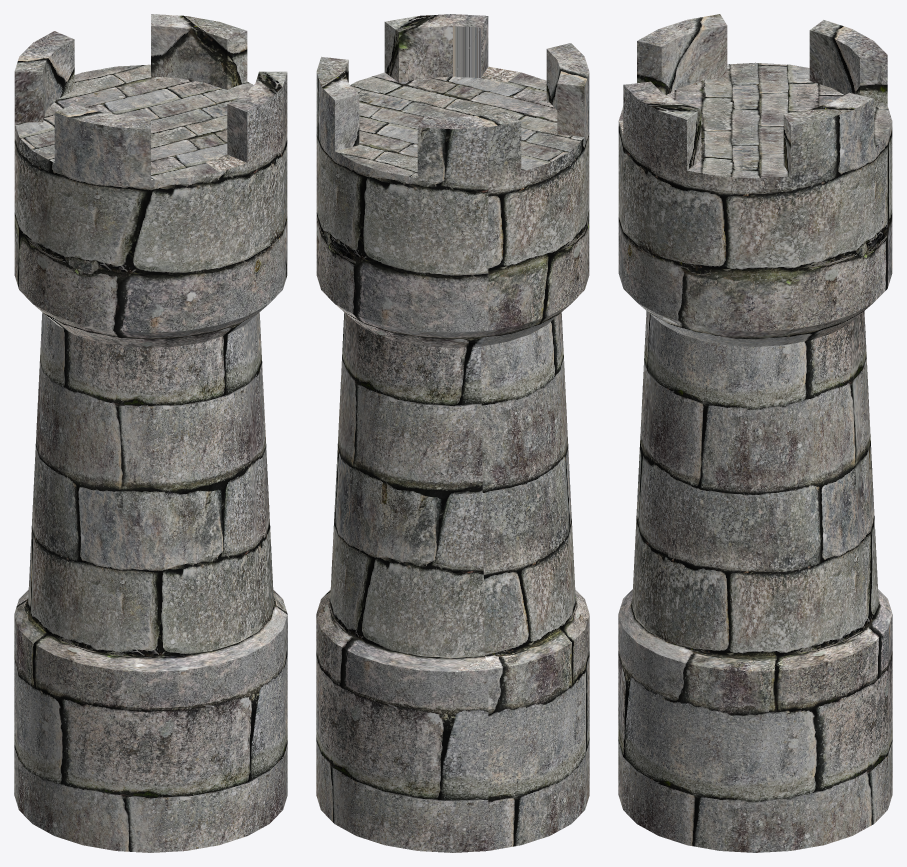
File: tower_model.glb
The picture shows the model from 3 angles, left to right: view 1: azimuth 30°, elevation 25°; view 2: azimuth 150°, elevation 25°; view 3: azimuth 270°, elevation 25°; orthographic projection.
Visible parts, largest first — view 1: Cylinder; view 2: Cylinder; view 3: Cylinder.
Boxes of the visible parts, x1,y1,x2,y2 form: Cylinder: (14,14,287,852); Cylinder: (316,14,589,852); Cylinder: (618,14,892,852).
Size of the model in its own units: 1.37 by 4 by 1.37.
Materials: 1 (1 with a texture image).
